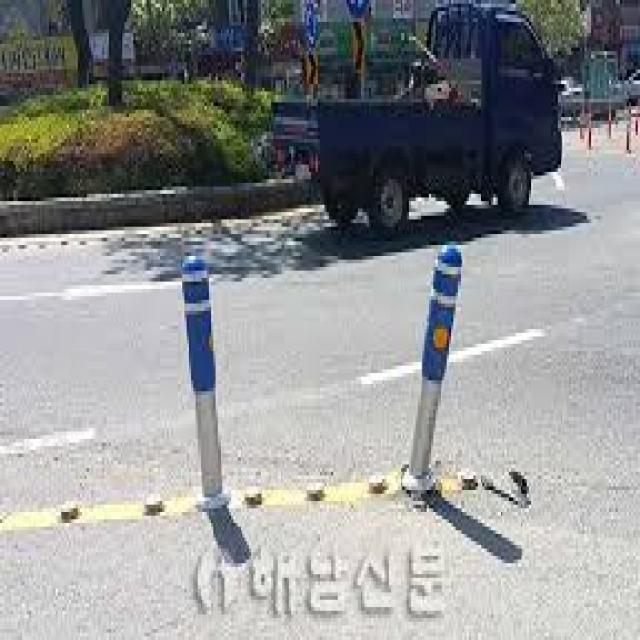bollard: (396, 212, 468, 523), (177, 247, 234, 528)
